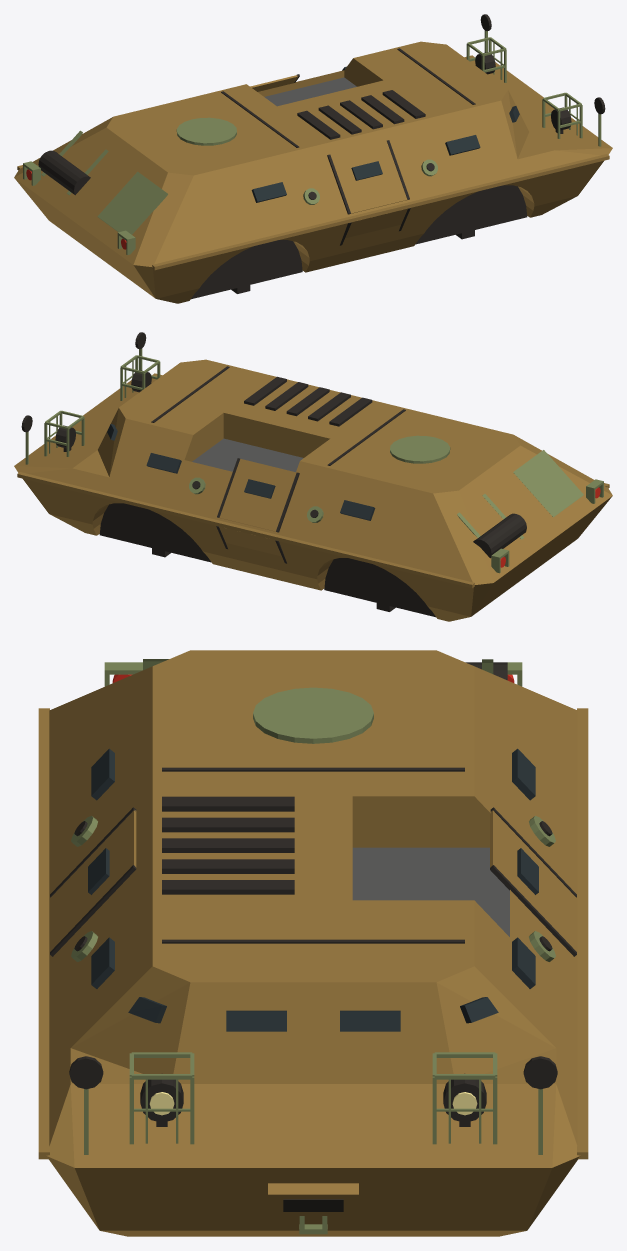
File: base_carrier.glb
3 renders of one model, top to bottom at view 1: azimuth 30°, elevation 25°; view 2: azimuth 150°, elevation 25°; view 3: azimuth 270°, elevation 25°, orthographic. The views are drawn at different scales.
Parts seen in each view (by area): view 1: base_carrier; view 2: base_carrier; view 3: base_carrier.
Part boxes in pixels (x1,y1,x2,y2): base_carrier: (14,14,612,303); base_carrier: (14,332,612,621); base_carrier: (38,650,588,1236).
Bounding box in the file's own units: 5.85 × 1.62 × 2.9.
